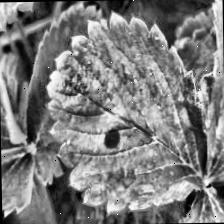Leaf Spot: (42, 8, 208, 217), (126, 184, 224, 224)
